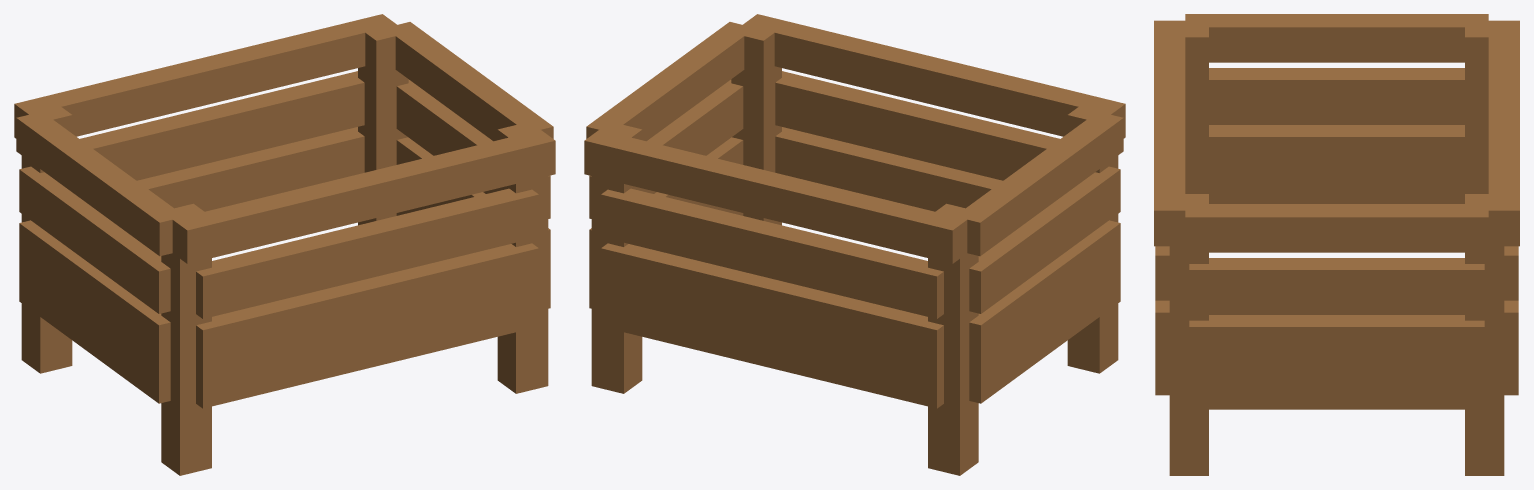
File: HomebaseWoodCrateMedium_LOD00.gltf
The picture shows the model from 3 angles, left to right: view 1: azimuth 30°, elevation 25°; view 2: azimuth 150°, elevation 25°; view 3: azimuth 270°, elevation 25°; orthographic projection. The views are drawn at different scales.
Parts seen in each view (by area): view 1: HomebaseWoodCrateMedium_node; view 2: HomebaseWoodCrateMedium_node; view 3: HomebaseWoodCrateMedium_node.
Boxes of the visible parts, box(x1,y1,x2,y2) form: HomebaseWoodCrateMedium_node: box(14, 14, 555, 475); HomebaseWoodCrateMedium_node: box(584, 14, 1125, 475); HomebaseWoodCrateMedium_node: box(1154, 14, 1519, 475).
Size of the model in its own units: 0.92 by 0.56 by 0.7.
